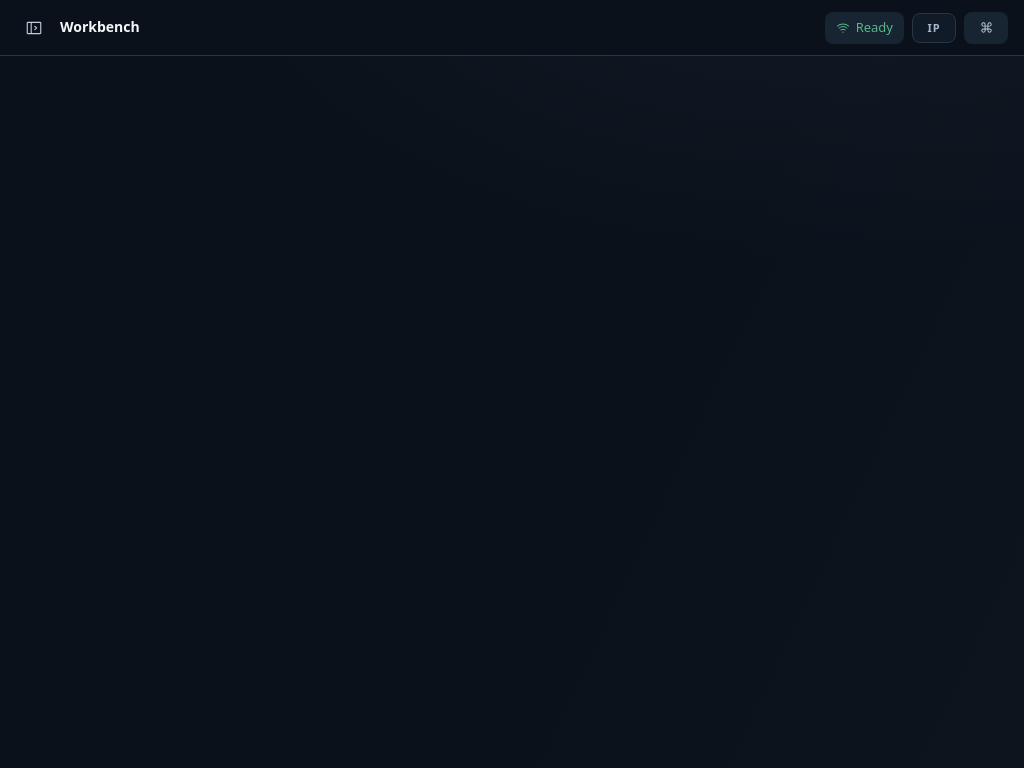
Scenario: TopBar public IP › keeps the complete address available in a focused disclosure (copy failure false)
Click the button with aria-label "Terminal container public IP 203.0.113.42": (934, 28) [912,12,956,42]
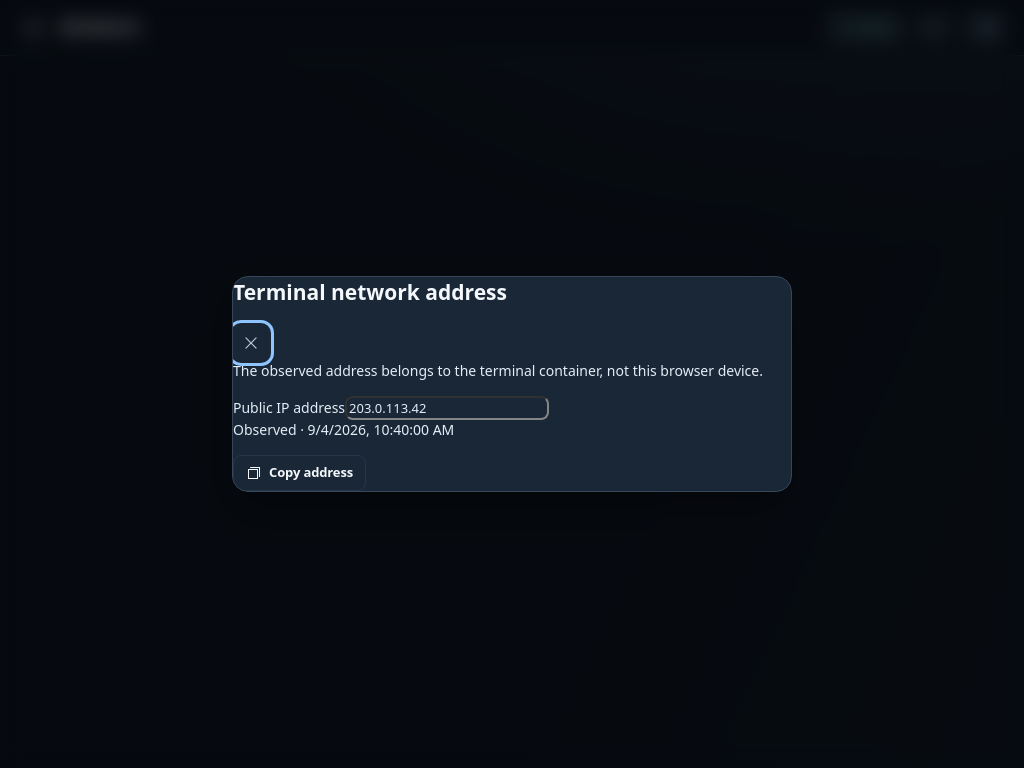
expect the field labelled "Public IP address" holds "203.0.113.42": met, box [345,396,549,420]
Click the button "Copy address": (300, 473) [233,455,366,491]
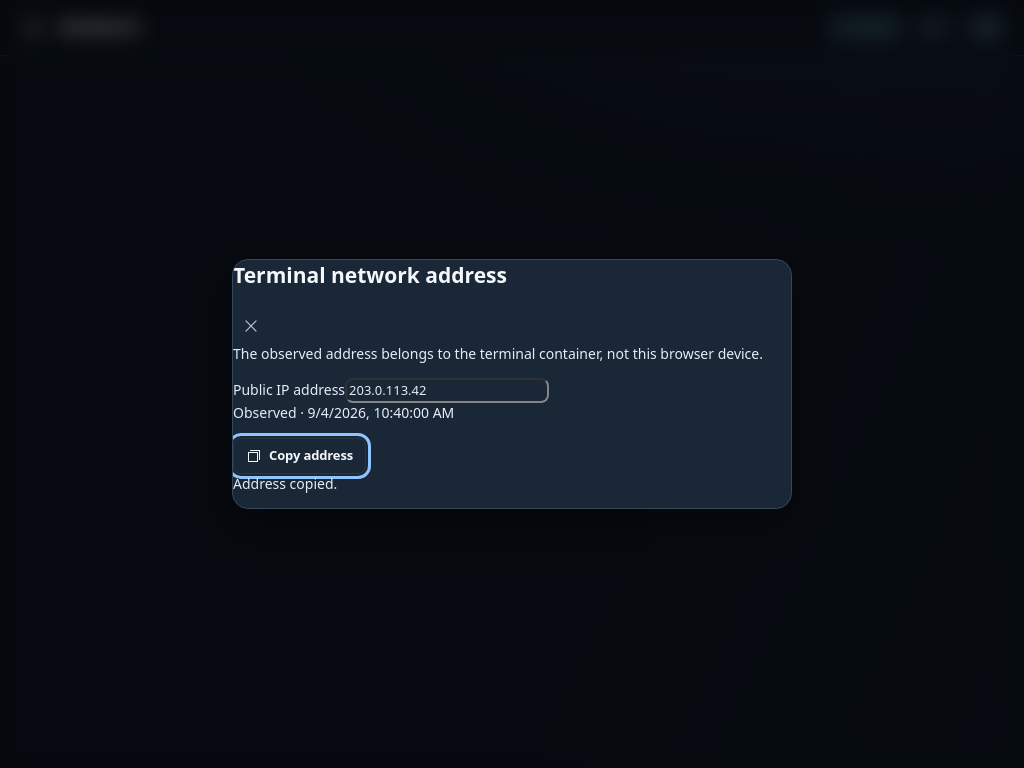
expect the message shows "Address copied": met, box [233,474,337,492]
Press Escape
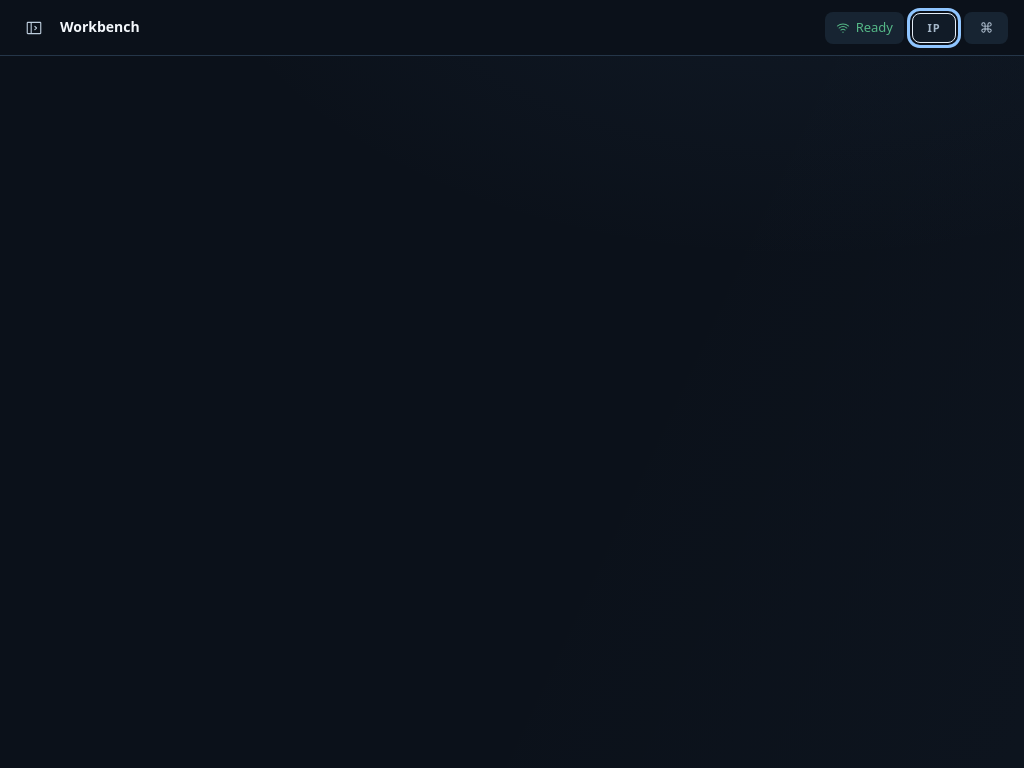
expect the dialog is gone: met
